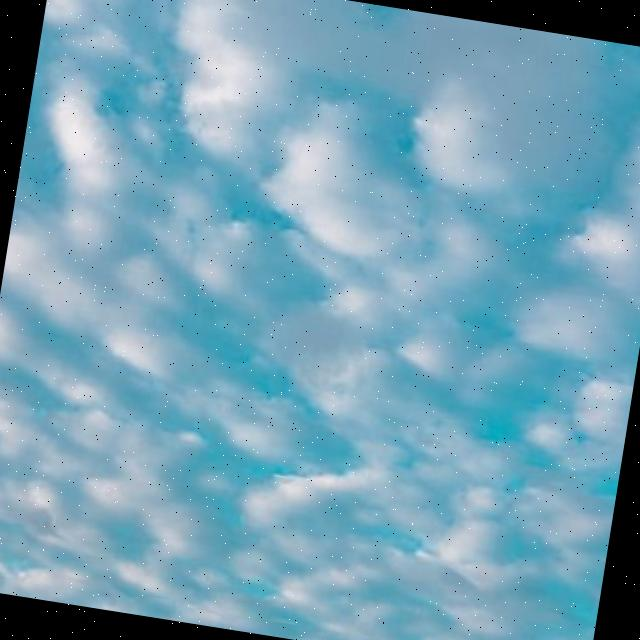Ci: (1, 1, 640, 639)
